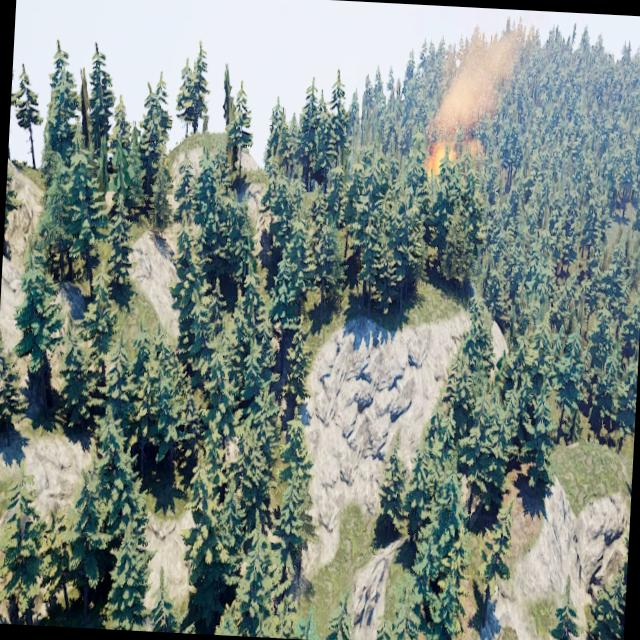fire: (424, 140, 456, 180)
smoke: (427, 6, 528, 158)
